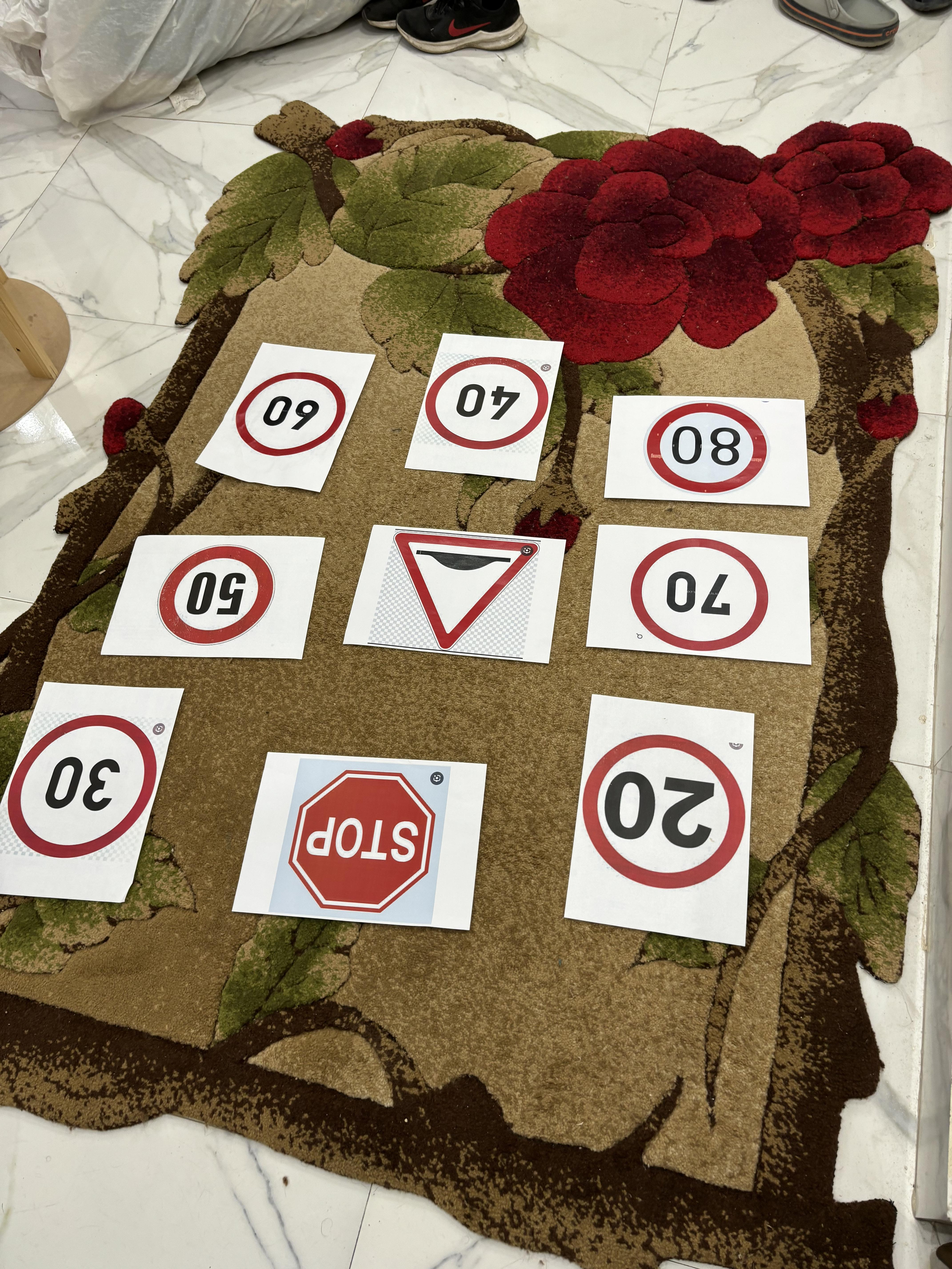20-Speed: (580, 722, 747, 885)
30-speed: (5, 707, 170, 863)
40-Speed: (420, 340, 550, 461)
50-Speed: (156, 543, 280, 650)
60-Speed: (238, 363, 349, 461)
70-Speed: (627, 525, 767, 652)
80-Speed: (643, 391, 774, 504)
Hump: (394, 514, 541, 653)
Stop: (278, 754, 443, 929)
